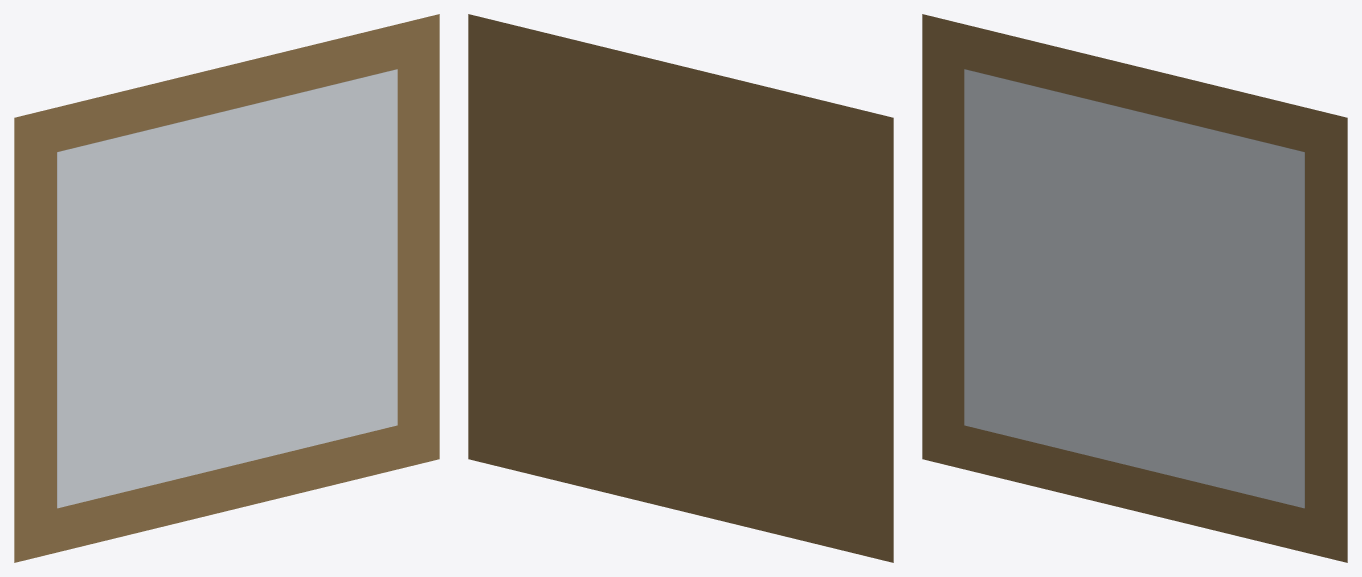
The model's file is frame.glb.
3 renders of one model, left to right at view 1: azimuth 30°, elevation 25°; view 2: azimuth 150°, elevation 25°; view 3: azimuth 330°, elevation 25°, orthographic.
Parts seen in each view (by area): view 1: frame; view 2: frame; view 3: frame.
Part boxes in pixels (left/top/right/bottom): frame: left=14, top=14, right=439, bottom=562; frame: left=468, top=14, right=893, bottom=562; frame: left=922, top=14, right=1347, bottom=562.
Bounding box in the file's own units: 1 × 1 × 0.002.
